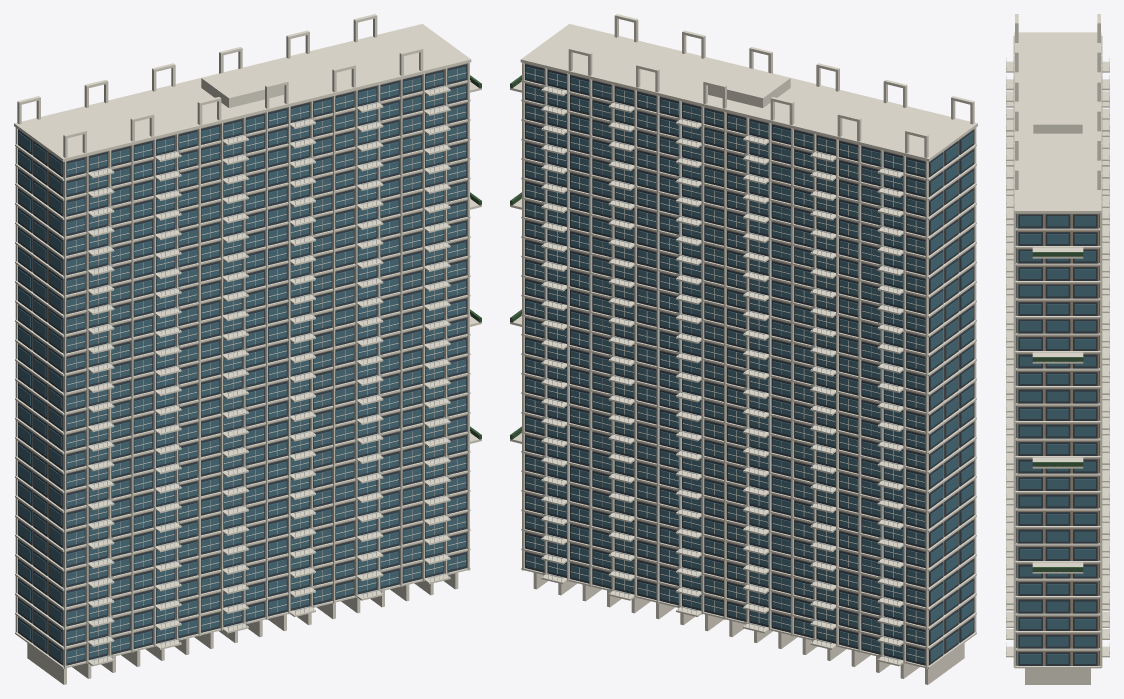
The model's file is tower-aristo.glb.
3 renders of one model, left to right at view 1: azimuth 30°, elevation 25°; view 2: azimuth 150°, elevation 25°; view 3: azimuth 270°, elevation 25°, orthographic. The views are drawn at different scales.
Parts seen in each view (by area): view 1: ivory, glass, dark, sand, rail; view 2: ivory, glass, dark, sand, rail; view 3: ivory, glass, dark, sand, rail, leaf.
Boxes of the visible parts, left/top/right/bottom form: ivory: left=14, top=14, right=481, bottom=684; glass: left=18, top=66, right=465, bottom=663; dark: left=18, top=64, right=466, bottom=665; sand: left=18, top=63, right=466, bottom=665; rail: left=92, top=84, right=449, bottom=663; ivory: left=510, top=14, right=977, bottom=684; glass: left=526, top=66, right=973, bottom=663; dark: left=525, top=64, right=973, bottom=665; sand: left=525, top=63, right=973, bottom=665; rail: left=542, top=84, right=899, bottom=663; ivory: left=1006, top=14, right=1109, bottom=684; glass: left=1020, top=216, right=1095, bottom=663; dark: left=1016, top=213, right=1099, bottom=665; sand: left=1017, top=213, right=1098, bottom=665; rail: left=1006, top=58, right=1109, bottom=654; leaf: left=1032, top=252, right=1083, bottom=571.
Bounding box in the file's own units: 70.2 × 86.55 × 16.41.
